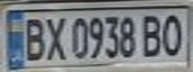0: (66, 12, 87, 60)
3: (103, 12, 121, 60)
8: (118, 12, 139, 59)
9: (87, 12, 106, 59)
B: (18, 14, 48, 62), (139, 11, 166, 58)
O: (157, 10, 187, 57)
X: (42, 14, 69, 62)
